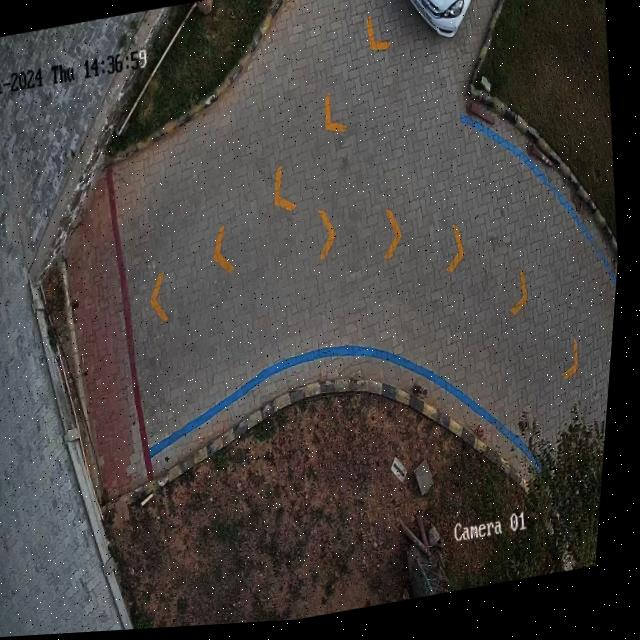car: (406, 0, 473, 42)
